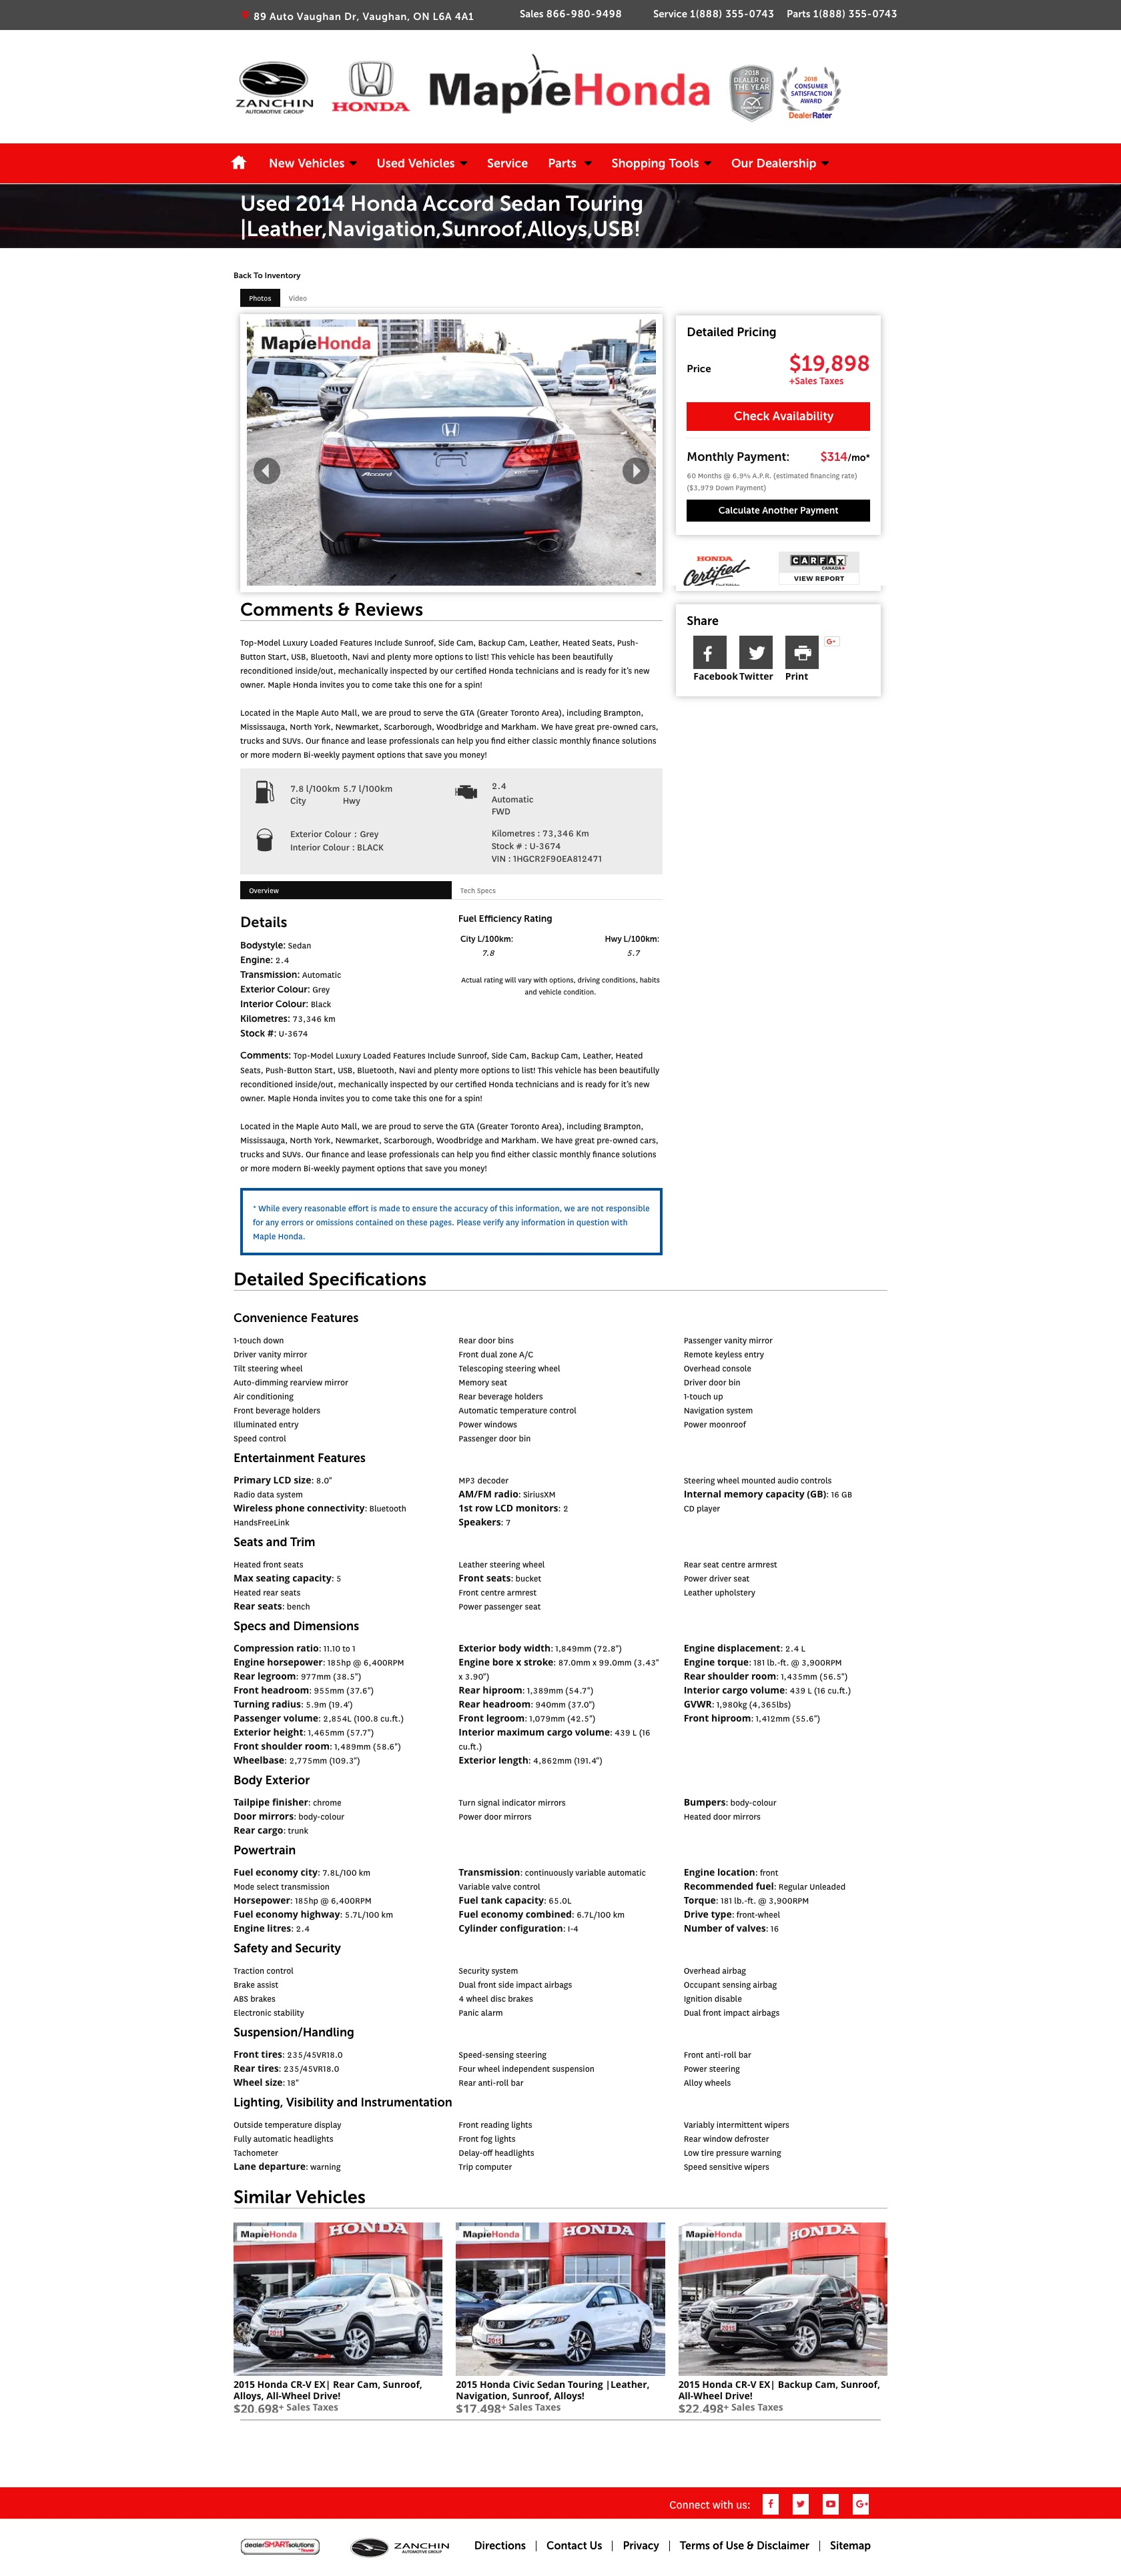car: (633, 463, 643, 480)
